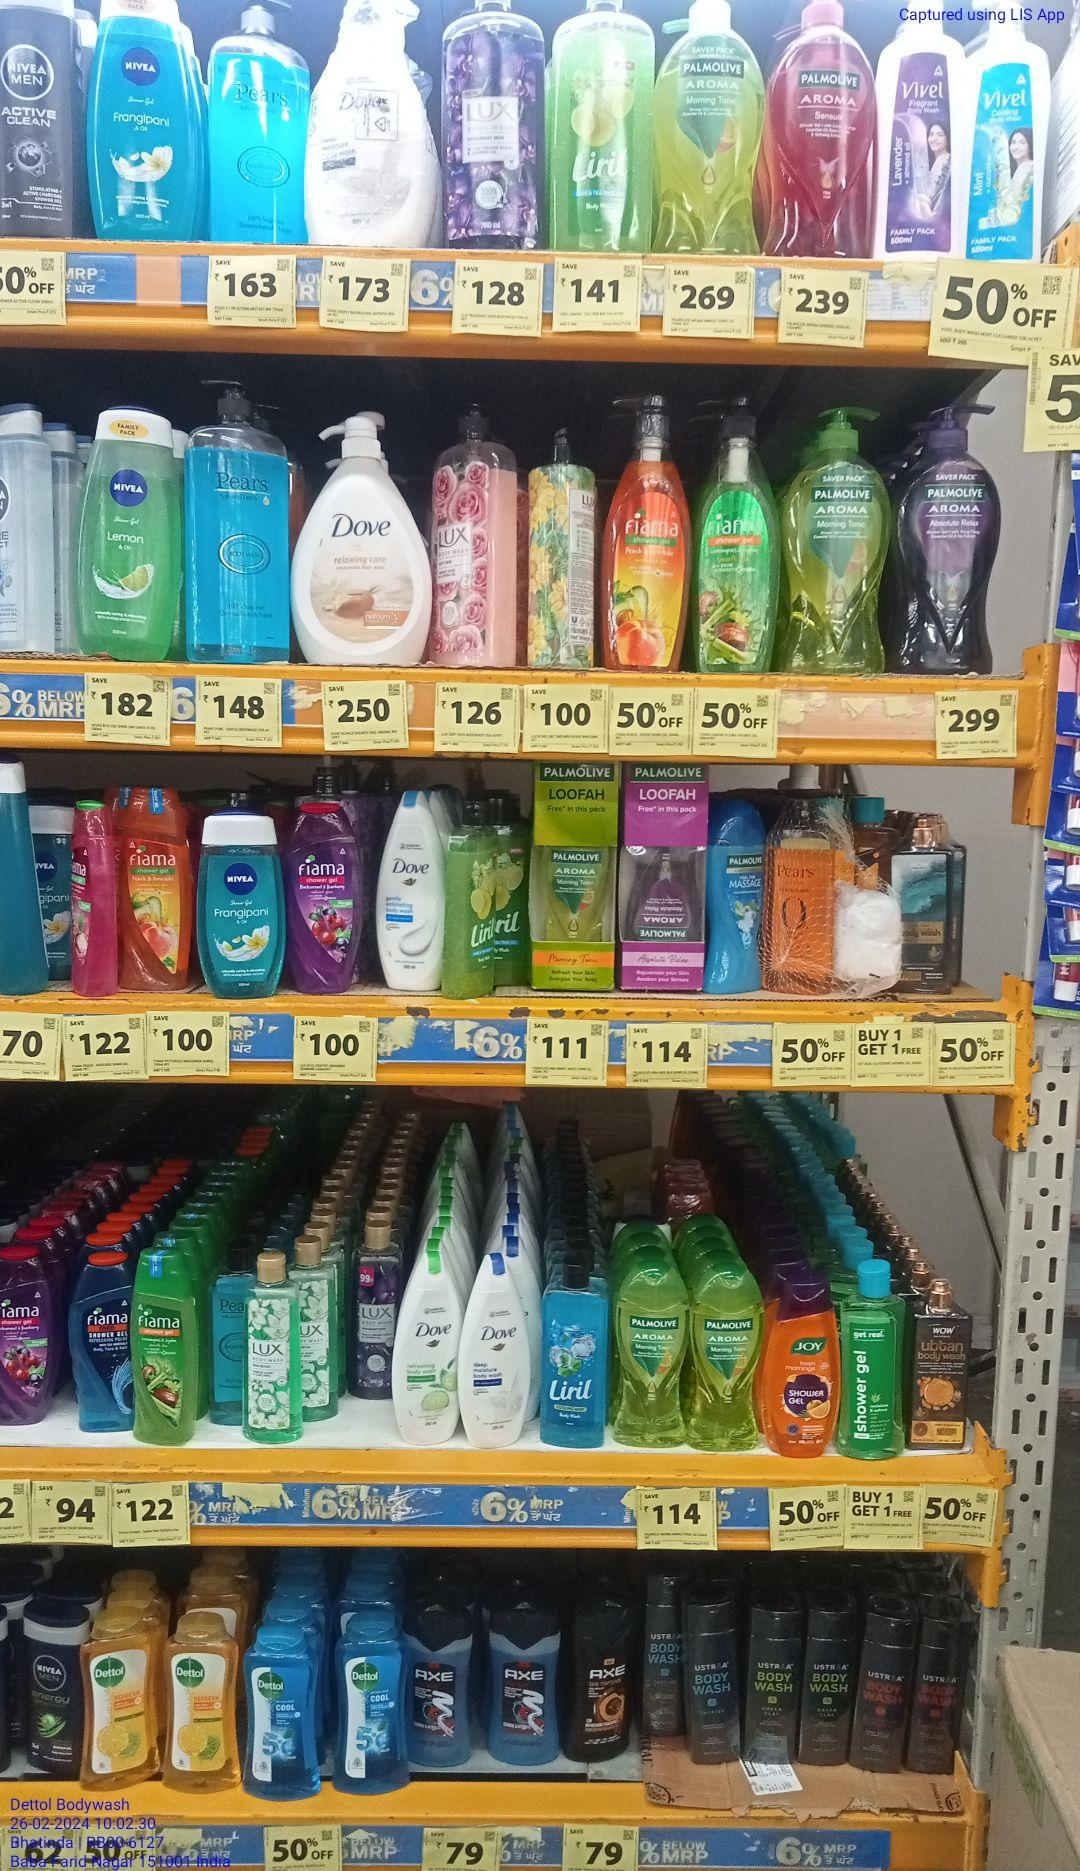Dettol_Bodywash_Cool: (244, 1623, 319, 1804), (336, 1618, 410, 1793)
Dettol_Bodywash_Refresh: (84, 1614, 159, 1791), (165, 1620, 239, 1793)
Dove_Deep_Moisture_Body_Wash_250ML: (462, 1257, 527, 1451)
Dove_Gentle_Exfoliating_Body_Wash_250ML: (379, 789, 446, 992)
Dove_Refreshing_Body_Wash_250ML: (395, 1253, 456, 1444)
Fiama_Shower_Gel_Lemongrass_and_Jojoba_250ML: (130, 1253, 189, 1444)
Fiama_Shower_Gel_Patchouli_and_Macadamia_250ML: (68, 802, 113, 992)
Fiama_Shower_Gel_Peach_and_Avocado_250ML: (127, 788, 189, 993)
Joy_Shower_Gel_Mandarin_and_Lemongrass_250ML: (769, 1277, 840, 1457)
Liril_Cooling_Mint_Body_Wash_250ML: (541, 1259, 602, 1448)
Liril_Lime_and_Tea_Tree_Oil_Body_Wash_250ML: (549, 0, 652, 252)
Lux_Black_Orchid_Scent_and_Juniper_Oil_Body_Wash_245ML: (438, 0, 545, 248), (355, 1223, 396, 1397)
Lux_Body_Wash_Skin_Detox_Freesia_Scent_and_Alove_Vera_245ML: (248, 1254, 301, 1442)
Nivea_Shower_Gel_Frangipani_and_Oil_250ML: (93, 1, 186, 239), (203, 813, 282, 993)
Nivea_Shower_Gel_Lemon_and_Oil_250ML: (81, 407, 175, 659)
Palmolive_Aroma_Morning_Tonic_Shower_Gel_250ML: (615, 1261, 685, 1451), (692, 1263, 759, 1450)
Pears_Pure_Glycerin_and_Mint_Extracts_Body_Wash_250ML: (207, 1, 310, 242), (208, 1245, 243, 1425)
